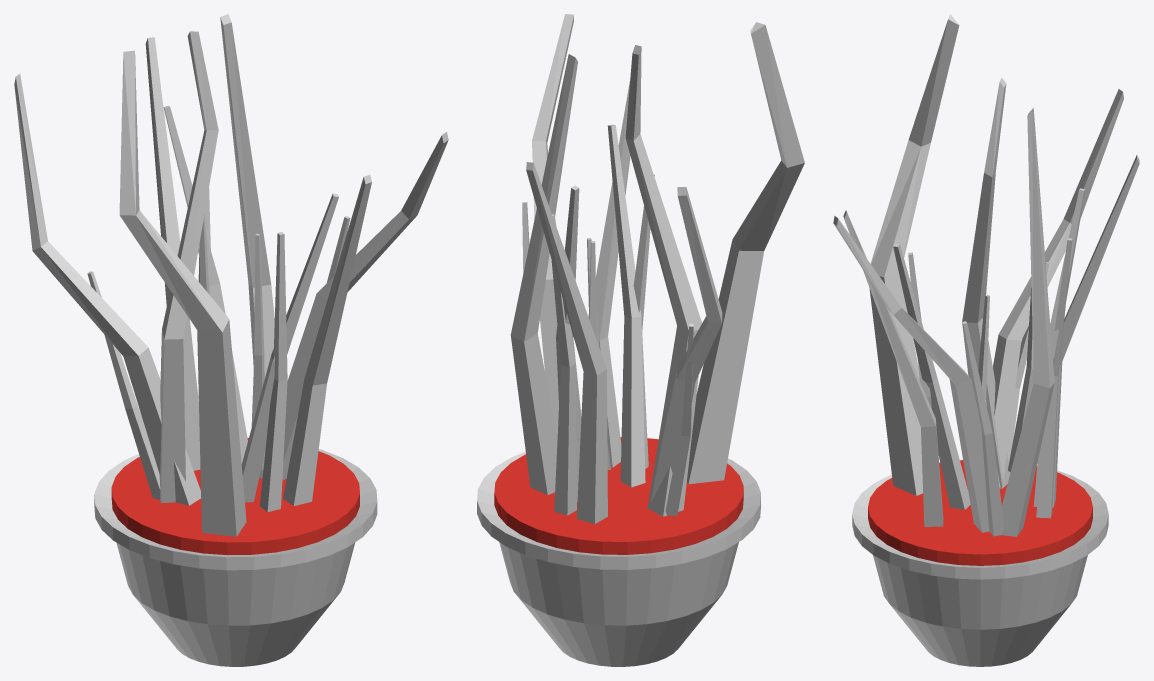
The model's file is plant.dae.
The picture shows the model from 3 angles, left to right: view 1: azimuth 30°, elevation 25°; view 2: azimuth 150°, elevation 25°; view 3: azimuth 270°, elevation 25°; orthographic projection. The views are drawn at different scales.
Visible parts, largest first — view 1: Cylinder, Cube.002, Cylinder.001, Cube.005, Cube.009, Cube.001, Cube.006, Cube.010, Cube.013, Cube, Cube.008, Cube.004 (+2 smaller); view 2: Cylinder, Cube.002, Cylinder.001, Cube.006, Cube.013, Cube.009, Cube.008, Cube.005, Cube.010, Cube.001, Cube.014, Cube.004 (+3 smaller); view 3: Cylinder, Cylinder.001, Cube.002, Cube.006, Cube.005, Cube.010, Cube.009, Cube.001, Cube.008, Cube.013, Cube.014, Cube.011 (+5 smaller).
Boxes of the visible parts, box(x1,y1,x2,y2) form: Cylinder: box(94, 437, 377, 666); Cube.002: box(119, 50, 246, 536); Cylinder.001: box(111, 438, 359, 555); Cube.005: box(14, 74, 200, 505); Cube.009: box(159, 31, 218, 503); Cube.001: box(283, 174, 371, 505); Cube.006: box(220, 14, 274, 378); Cube.010: box(259, 132, 448, 480); Cube.013: box(145, 37, 200, 470); Cube: box(259, 232, 287, 511); Cube.008: box(241, 193, 338, 502); Cube.004: box(87, 271, 160, 499); Cylinder: box(477, 438, 760, 666); Cube.002: box(687, 22, 804, 484); Cylinder.001: box(494, 437, 743, 554); Cube.006: box(510, 54, 577, 494); Cube.013: box(526, 162, 607, 524); Cube.009: box(625, 45, 701, 516); Cube.008: box(607, 124, 645, 487); Cube.005: box(650, 187, 722, 503); Cube.010: box(532, 14, 573, 438); Cube.001: box(595, 79, 630, 467); Cube.014: box(551, 214, 576, 515); Cube.004: box(665, 323, 693, 515); Cylinder: box(852, 462, 1108, 666); Cylinder.001: box(868, 460, 1092, 565); Cube.002: box(869, 14, 959, 495); Cube.006: box(1001, 108, 1054, 536); Cube.005: box(993, 89, 1123, 488); Cube.010: box(833, 216, 989, 532); Cube.009: box(962, 77, 1010, 488); Cube.001: box(843, 210, 943, 526); Cube.008: box(893, 243, 970, 509); Cube.013: box(1033, 155, 1139, 507); Cube.014: box(1036, 238, 1072, 518); Cube.011: box(962, 321, 1004, 536).
Bounding box in the file's own units: 5.32 × 5.44 × 11.22.
